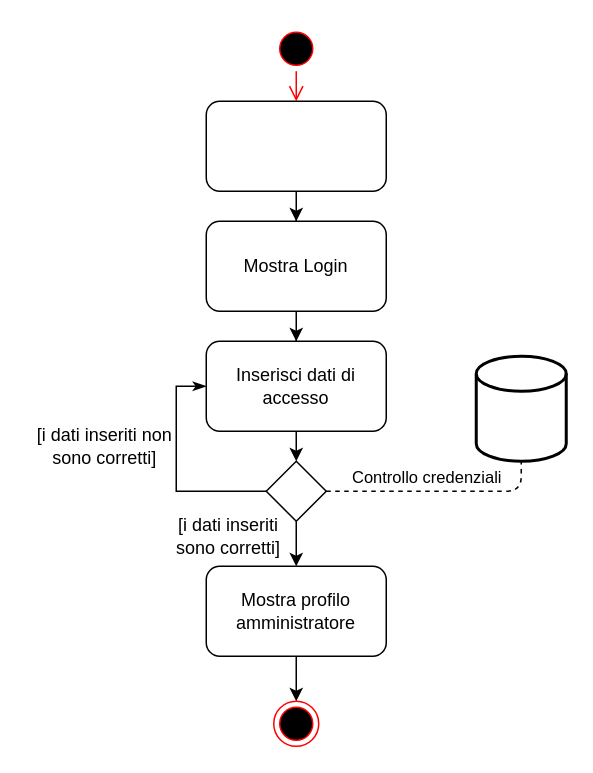
This 593x773 diagram has some shape labels left out. The shapes that lost their labels are listed below. From the top down, each one's box as (x1, y1, x2, y2) in pixels, then its label:
(205, 100, 386, 191): Mostra Home
(474, 354, 567, 462): Database admin
